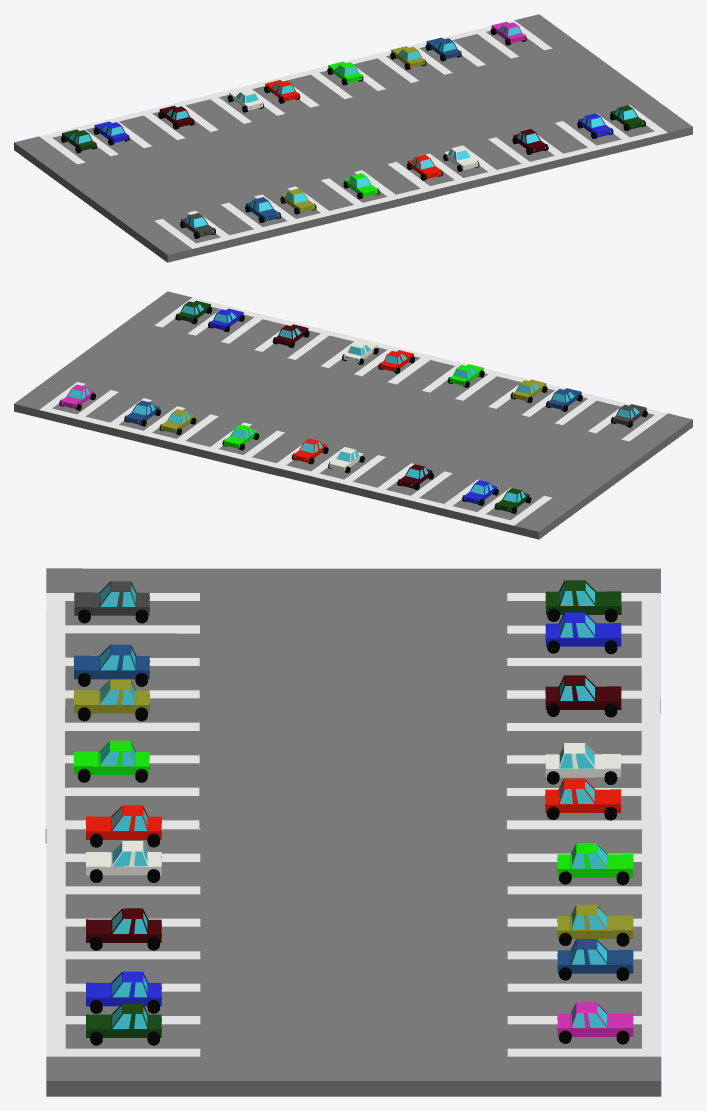
File: parking lot .fbx
3 views of the same model, one above another, from view 1: azimuth 30°, elevation 25°; view 2: azimuth 150°, elevation 25°; view 3: azimuth 270°, elevation 25° (orthographic). The views are drawn at different scales.
Parts seen in each view (by area): view 1: Cube.053, Cube, Cube.038, Cube.039, Cube.046, Cube.090, Cube.030, Cube.031, Cube.099, Cube.100, Cube.080, Cube.005 (+8 smaller); view 2: Cube.053, Cube, Cube.015, Cube.016, Cube.005, Cube.075, Cube.067, Cube.006, Cube.074, Cube.066, Cube.059, Cube.100 (+8 smaller); view 3: Cube, Cube.053, Cube.100, Cube.015, Cube.005, Cube.074, Cube.016, Cube.067, Cube.006, Cube.066, Cube.080, Cube.030 (+8 smaller).
Part boxes in pixels (left/top/right/bottom): Cube.053: left=14, top=77, right=433, bottom=262; Cube: left=273, top=14, right=692, bottom=197; Cube.038: left=513, top=129, right=547, bottom=153; Cube.039: left=444, top=146, right=478, bottom=170; Cube.046: left=407, top=154, right=441, bottom=178; Cube.090: left=344, top=173, right=378, bottom=197; Cube.030: left=610, top=105, right=644, bottom=129; Cube.031: left=578, top=113, right=612, bottom=137; Cube.099: left=281, top=188, right=315, bottom=212; Cube.100: left=246, top=197, right=279, bottom=221; Cube.080: left=181, top=213, right=214, bottom=237; Cube.005: left=426, top=37, right=460, bottom=59; Cube.053: left=273, top=354, right=692, bottom=539; Cube: left=14, top=291, right=433, bottom=476; Cube.015: left=223, top=424, right=257, bottom=448; Cube.016: left=60, top=384, right=94, bottom=408; Cube.005: left=125, top=400, right=159, bottom=424; Cube.075: left=495, top=488, right=529, bottom=512; Cube.067: left=398, top=464, right=432, bottom=488; Cube.006: left=160, top=409, right=194, bottom=433; Cube.074: left=463, top=480, right=496, bottom=504; Cube.066: left=329, top=447, right=362, bottom=471; Cube.059: left=293, top=438, right=326, bottom=462; Cube.100: left=547, top=388, right=581, bottom=409; Cube: left=46, top=821, right=661, bottom=1096; Cube.053: left=45, top=568, right=660, bottom=843; Cube.100: left=74, top=644, right=149, bottom=679; Cube.015: left=557, top=843, right=633, bottom=877; Cube.005: left=557, top=939, right=633, bottom=973; Cube.074: left=545, top=612, right=621, bottom=646; Cube.016: left=557, top=1002, right=633, bottom=1036; Cube.067: left=545, top=675, right=621, bottom=709; Cube.006: left=557, top=904, right=633, bottom=938; Cube.066: left=545, top=743, right=620, bottom=777; Cube.080: left=74, top=581, right=149, bottom=615; Cube.030: left=86, top=1003, right=161, bottom=1037.
Size of the model in its own units: 13493 by 529 by 6848.
